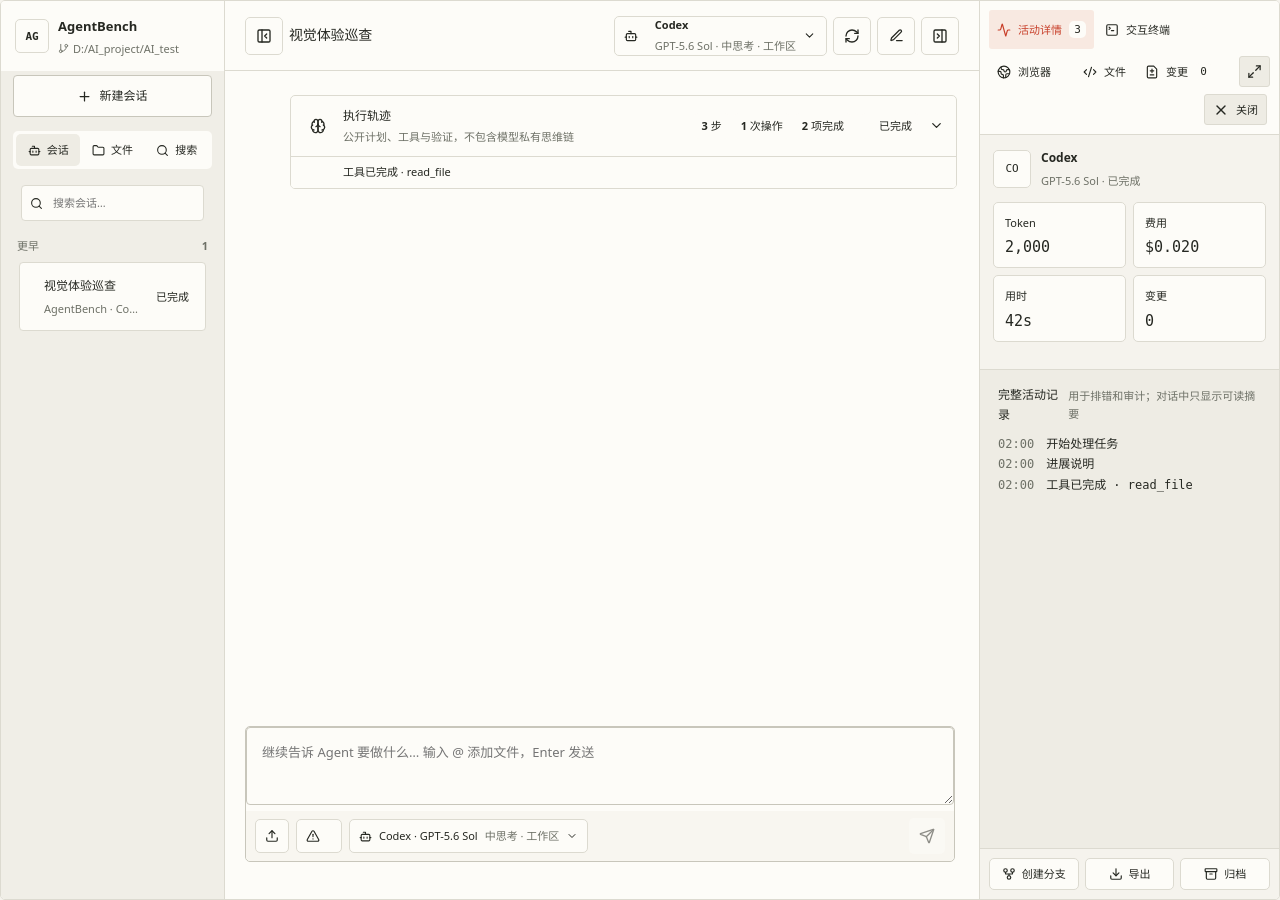
Test: Agent Studio visual workspace controls › turns streamed model output into a readable and deduplicated process timeline
What coordinates should you click on to do the following:
click the button "执行轨迹 公开计划、工具与验证，不包含模型私有思维链 3 步 1 次操作 2 项完成 已完成"
I would click on:
 (367, 116)
Its box is [291,96,956,156].
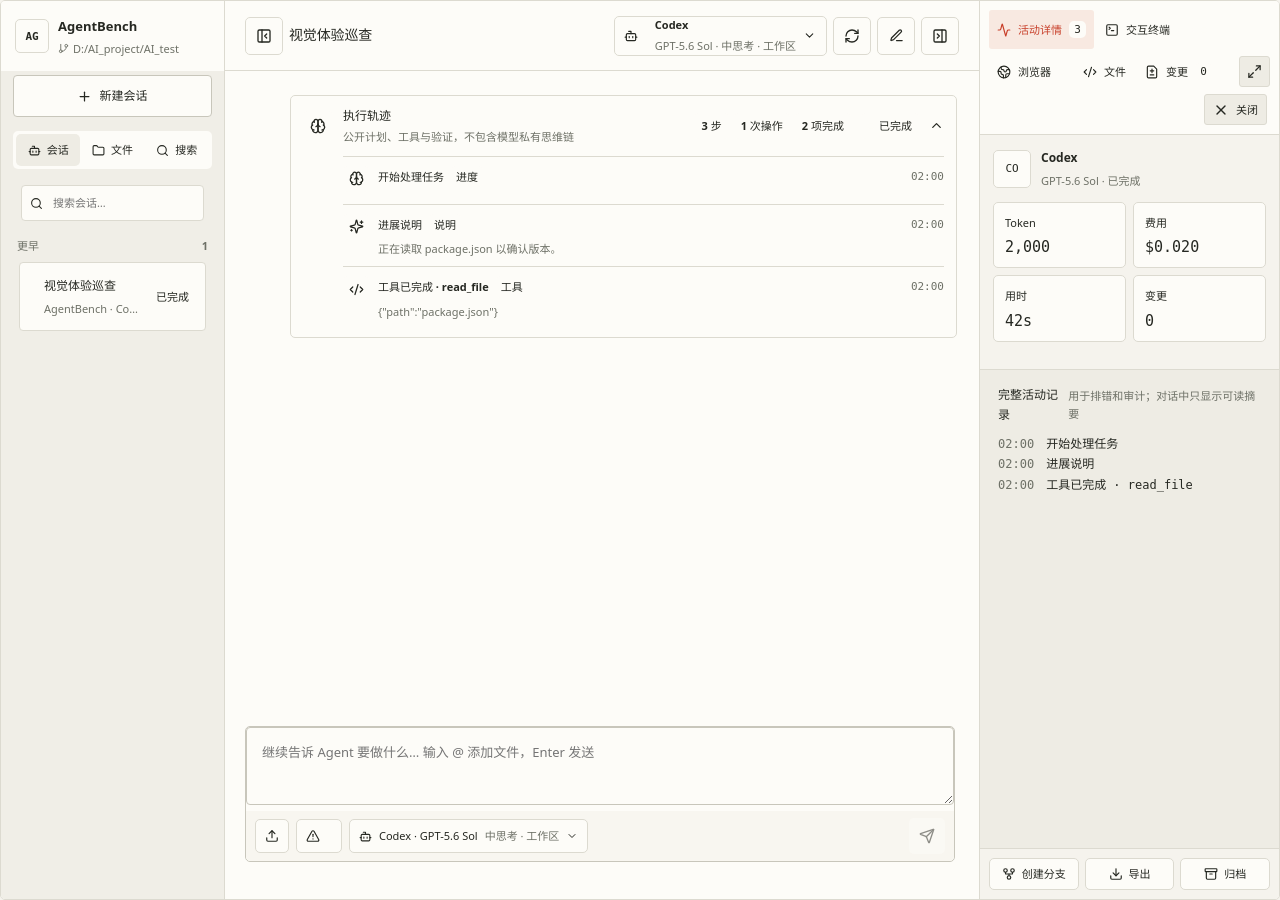
Now the element with class "ab-execution-list" is shown, box [291,156,956,337]
Now the element with class "ab-execution-list" shows "正在读取 package.json 以确认版本。", box [378,241,562,256]
Now the element with class "ab-execution-list" shows "工具已完成 · read_file", box [378,279,489,294]
